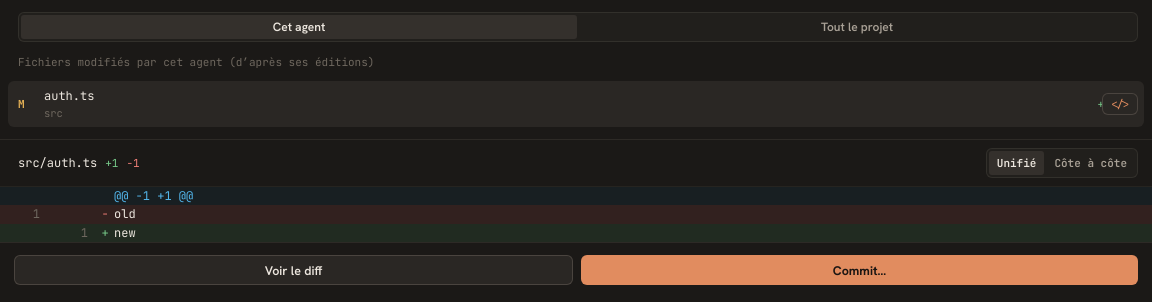
it: FilesPanel docked in the split layout › switches the diff to side by side
The image size is (1152, 302).
Expected: the text "new" is shown, top-left (114, 225), bottom-right (136, 241)
Click the button "Côte à côte".
click(1091, 162)  # box top-left (1046, 150), bottom-right (1135, 174)
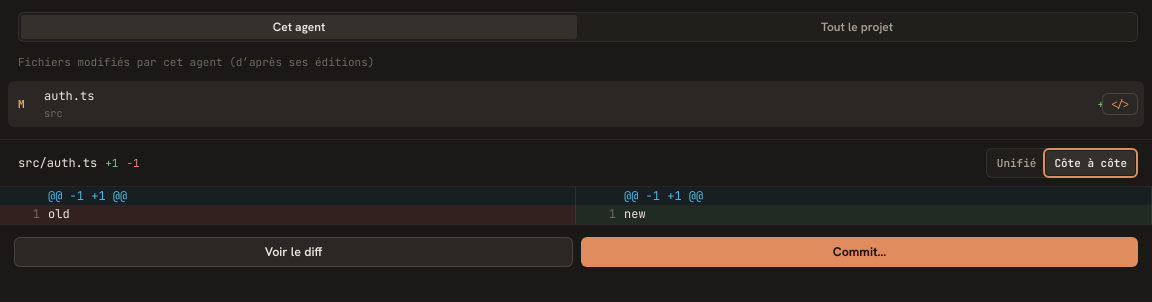
Expected: the text "old" shows "new", top-left (624, 206), bottom-right (646, 222)
